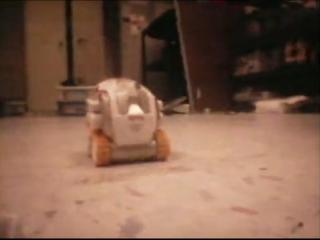cozmo: (83, 76, 171, 166)
